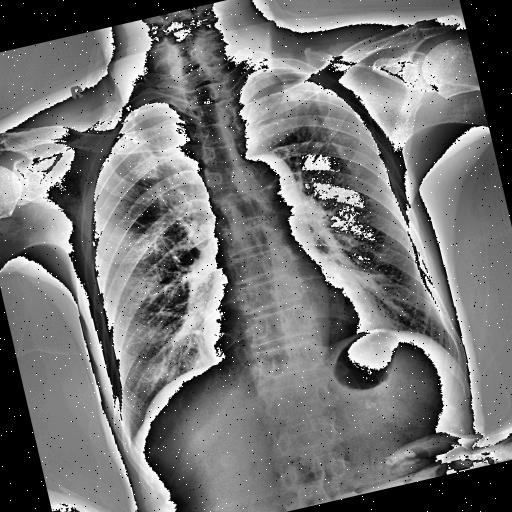0- Aortic enlargement: (237, 148, 306, 224), (240, 144, 302, 218), (241, 148, 303, 220)
13- Pulmonary fibrosis: (282, 88, 331, 155), (301, 106, 355, 146), (300, 108, 334, 150)
3- Cardiomegaly: (190, 248, 387, 371), (196, 270, 390, 370)
6- Infiltration: (301, 106, 355, 146)
